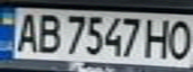4: (103, 14, 124, 57)
5: (81, 12, 106, 56)
7: (60, 11, 87, 55), (121, 15, 145, 58)
A: (9, 10, 42, 54)
B: (33, 10, 63, 54)
H: (142, 15, 175, 60)
O: (166, 17, 193, 62)
